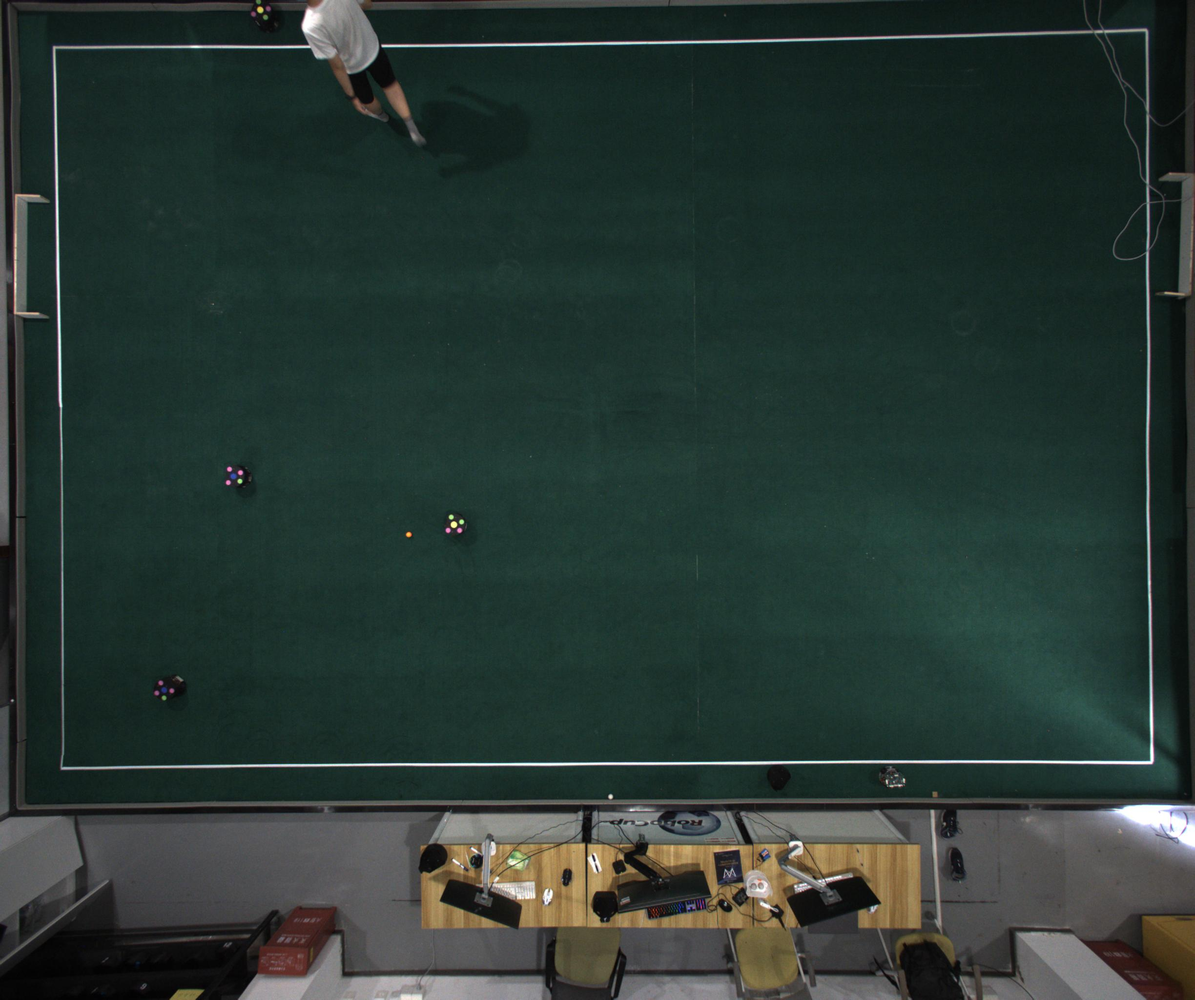ball: (406, 531, 412, 538)
blue_bot: (153, 678, 177, 702), (224, 465, 245, 487)
yellow_bot: (250, 0, 272, 24), (445, 513, 465, 535)
